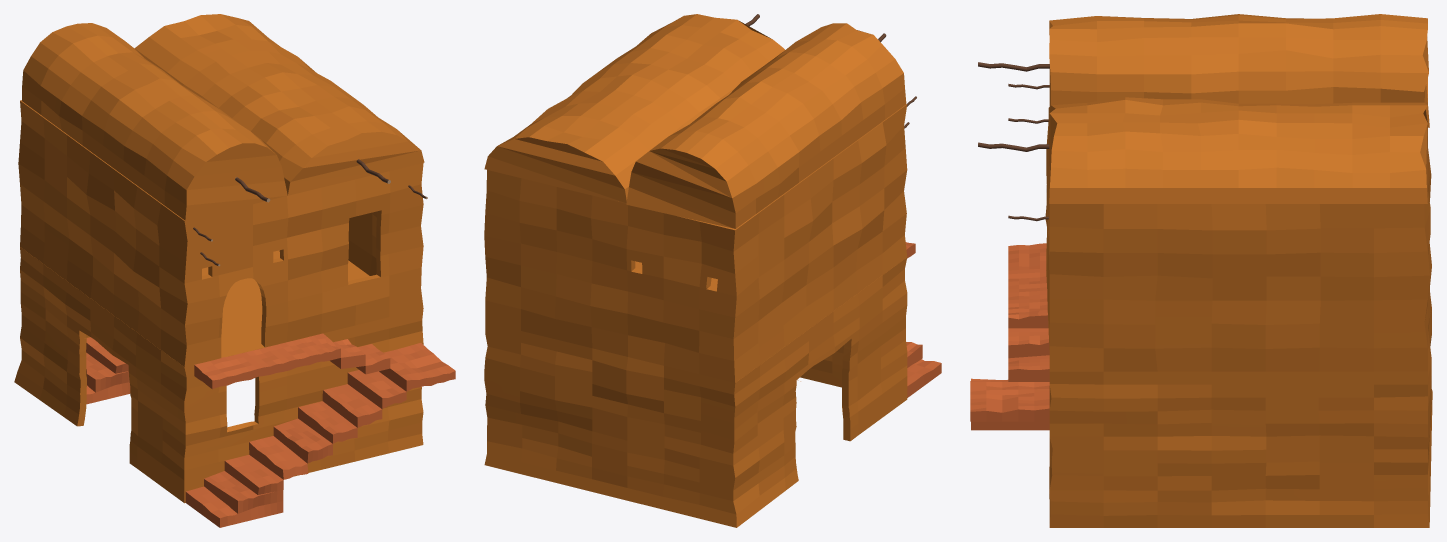
File: Tunisia_house4.fbx
3 renders of one model, left to right at view 1: azimuth 30°, elevation 25°; view 2: azimuth 150°, elevation 25°; view 3: azimuth 270°, elevation 25°, orthographic. The views are drawn at different scales.
Parts seen in each view (by area): view 1: T5_2nd Floor.001, T5_1st Floor.001, T5_roof2.001, T5_roof1.001, T5_stair.001, T5_stair.003; view 2: T5_2nd Floor.001, T5_1st Floor.001, T5_roof2.001, T5_roof1.001, T5_stair.001; view 3: T5_2nd Floor.001, T5_1st Floor.001, T5_roof1.001, T5_roof2.001, T5_stair.001.
Part boxes in pixels (x1,y1,x2,y2): T5_2nd Floor.001: (18, 100, 423, 366); T5_1st Floor.001: (14, 247, 423, 503); T5_roof2.001: (22, 23, 287, 220); T5_roof1.001: (134, 14, 424, 195); T5_stair.001: (185, 333, 455, 527); T5_stair.003: (86, 337, 130, 404); T5_2nd Floor.001: (484, 104, 907, 382); T5_1st Floor.001: (484, 257, 907, 527); T5_roof2.001: (626, 23, 906, 228); T5_roof1.001: (484, 14, 784, 203); T5_stair.001: (905, 242, 941, 397); T5_2nd Floor.001: (1045, 78, 1431, 371); T5_1st Floor.001: (1049, 296, 1432, 527); T5_roof1.001: (1048, 97, 1427, 203); T5_roof2.001: (1049, 14, 1429, 127); T5_stair.001: (970, 243, 1049, 430).
Bounding box in the file's own units: 1072 × 1466 × 1514.
3 materials, 1 textured.
